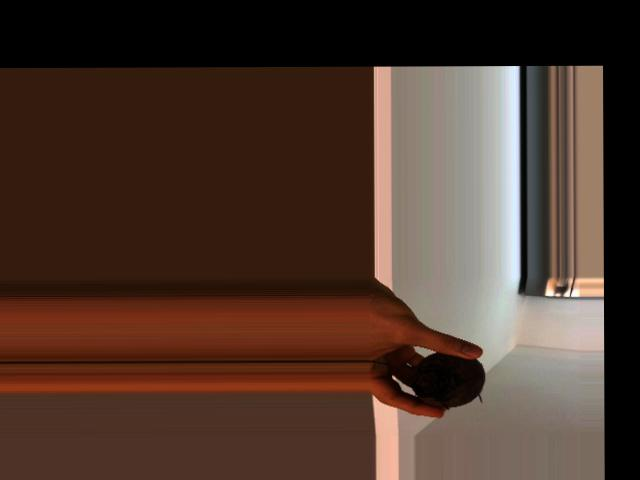beet: (369, 351, 486, 410)
